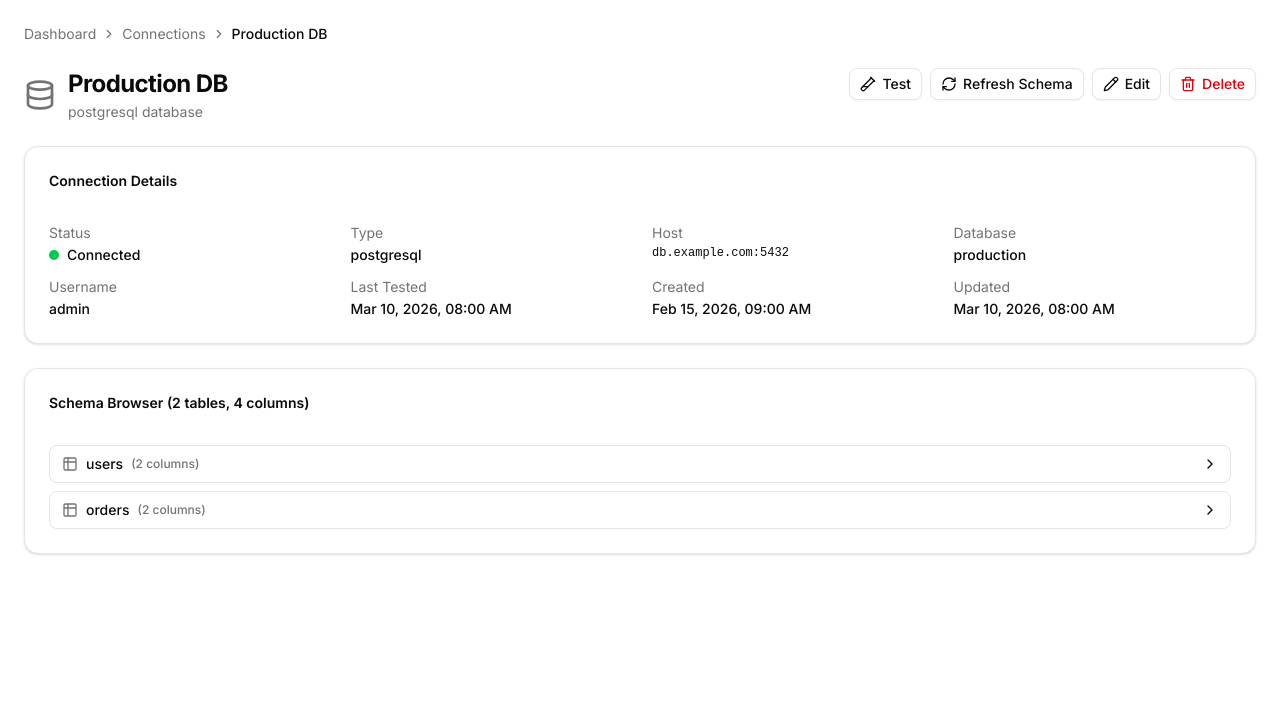
Scenario: ConnectionDetailPage › delete › shows delete confirmation dialog
The width and height of the screenshot is (1280, 720).
Click the button with test id "delete-button": click(1213, 84) x1=1169 y1=68 x2=1256 y2=100
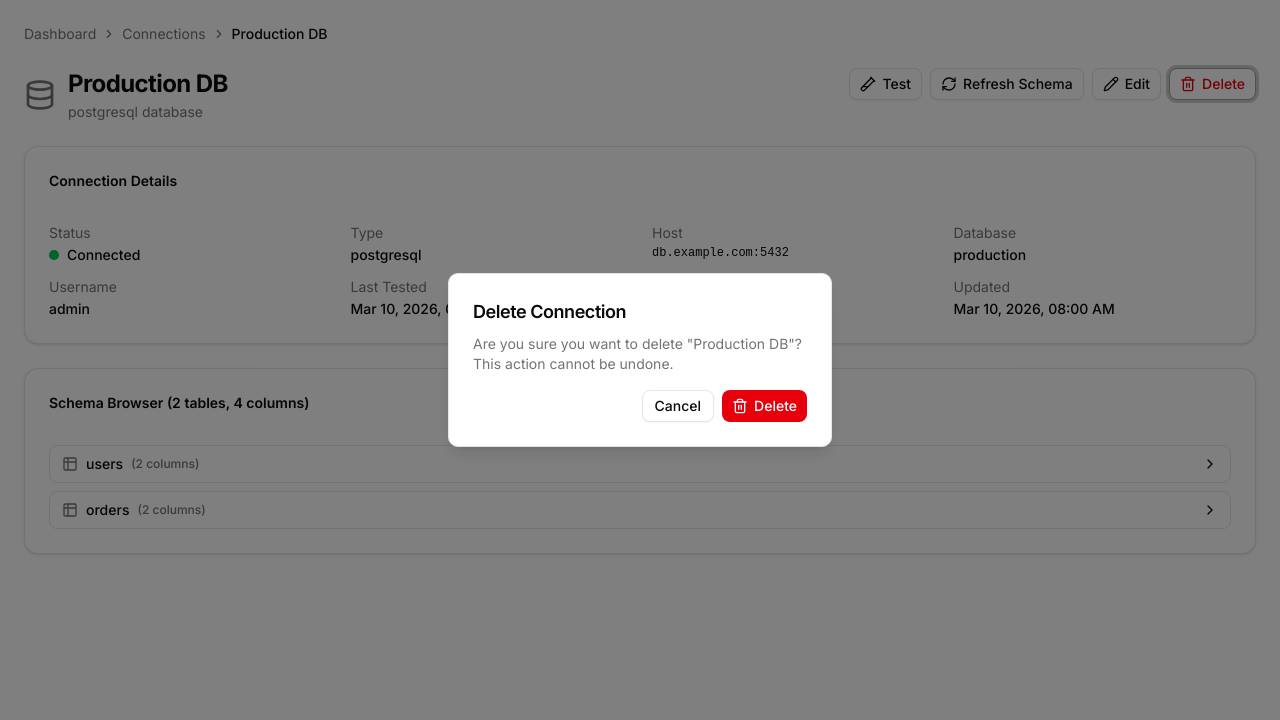
expect the element with test id "delete-confirmation" is shown: met
expect the text "Are you sure you want to delete" is shown: met, box x1=473 y1=335 x2=693 y2=352
